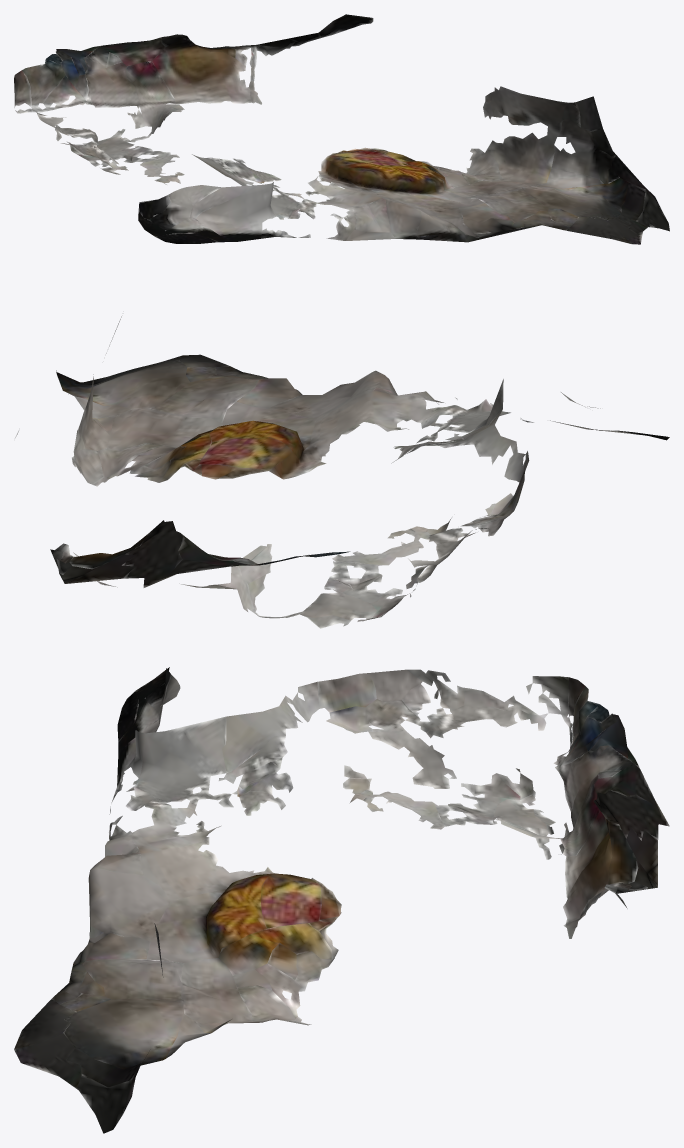
Rendered from hall.glb.
3 views of the same model, one above another, from view 1: azimuth 30°, elevation 25°; view 2: azimuth 150°, elevation 25°; view 3: azimuth 270°, elevation 25° (orthographic). The views are drawn at different scales.
Bounding box in the file's own units: 0.8558 × 0.2128 × 0.7579.
1 material, 1 textured.
